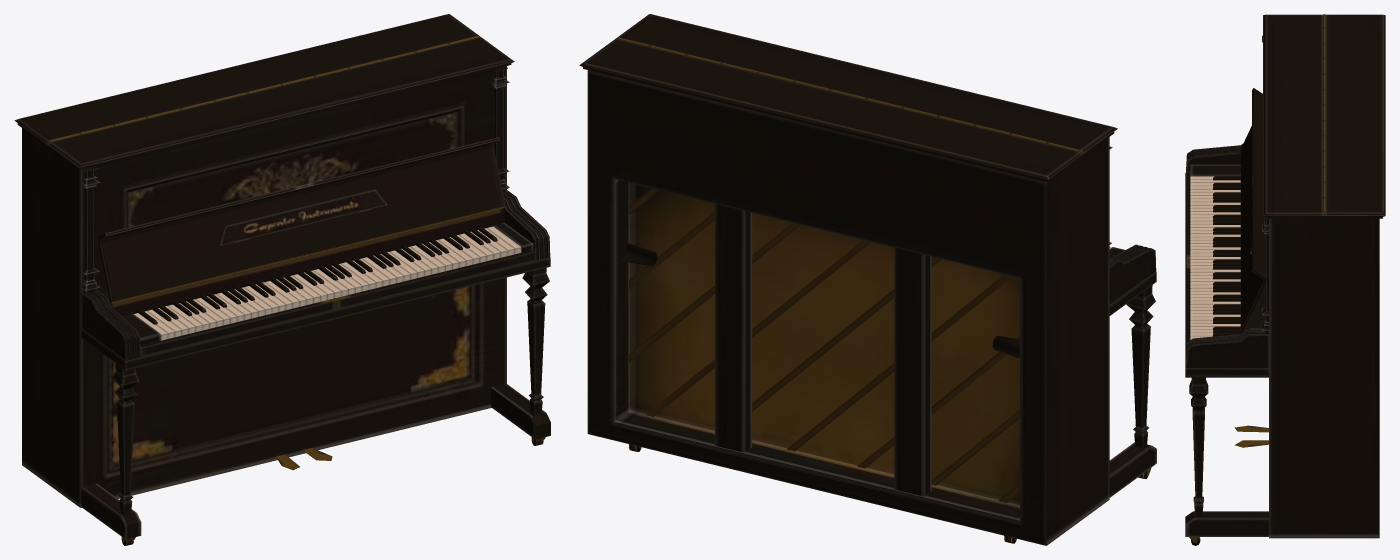
Rendered from piano.glb.
3 views of the same model, side by side, from view 1: azimuth 30°, elevation 25°; view 2: azimuth 150°, elevation 25°; view 3: azimuth 270°, elevation 25° (orthographic). The views are drawn at different scales.
Parts seen in each view (by area): view 1: Object_4; view 2: Object_4; view 3: Object_4.
Boxes of the visible parts, left/top/right/bottom form: Object_4: left=14, top=14, right=550, bottom=545; Object_4: left=579, top=14, right=1156, bottom=545; Object_4: left=1185, top=14, right=1385, bottom=545.
Size of the model in its own units: 2.76 by 2.17 by 1.17.
Materials: 1 (1 with a texture image).
